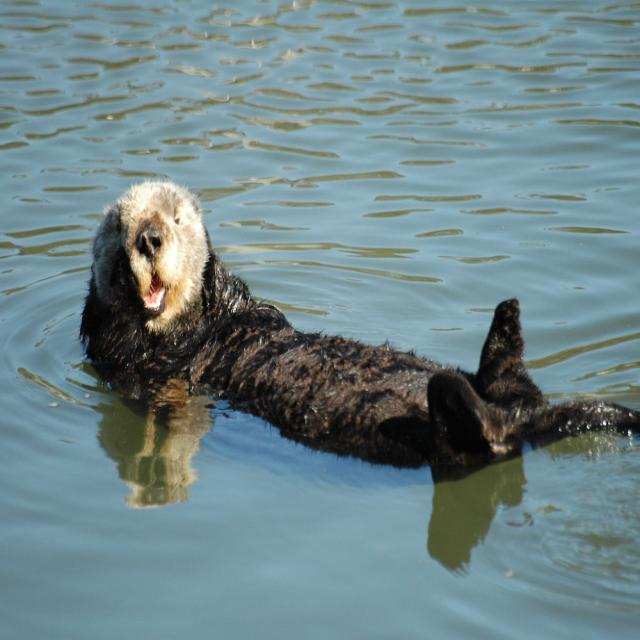otter: (83, 180, 640, 472)
